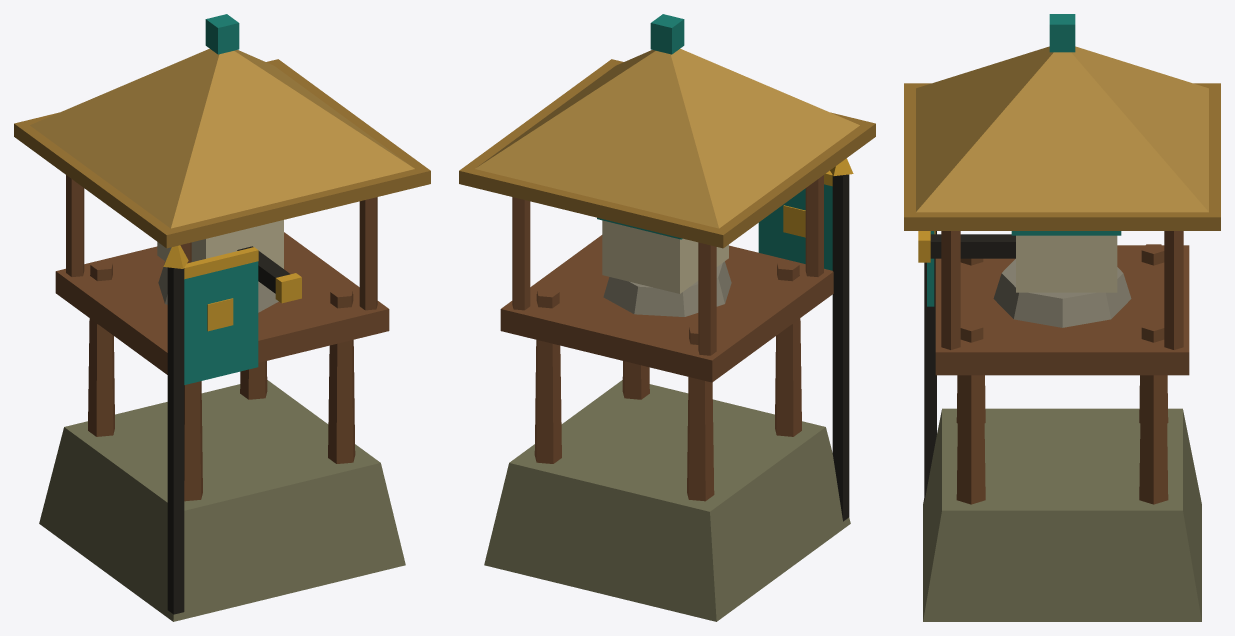
The model's file is tower_t1.glb.
3 renders of one model, left to right at view 1: azimuth 30°, elevation 25°; view 2: azimuth 150°, elevation 25°; view 3: azimuth 270°, elevation 25°, orthographic. The views are drawn at different scales.
Parts seen in each view (by area): view 1: body, part_turret; view 2: body, part_turret; view 3: body, part_turret.
Part boxes in pixels (box(x1,y1,x2,y2)): body: box(14, 14, 430, 621); part_turret: box(157, 220, 301, 312); body: box(459, 14, 875, 621); part_turret: box(597, 217, 731, 316); body: box(904, 14, 1220, 621); part_turret: box(918, 231, 1131, 327).
Size of the model in its own units: 1.25 by 2.37 by 1.25.
